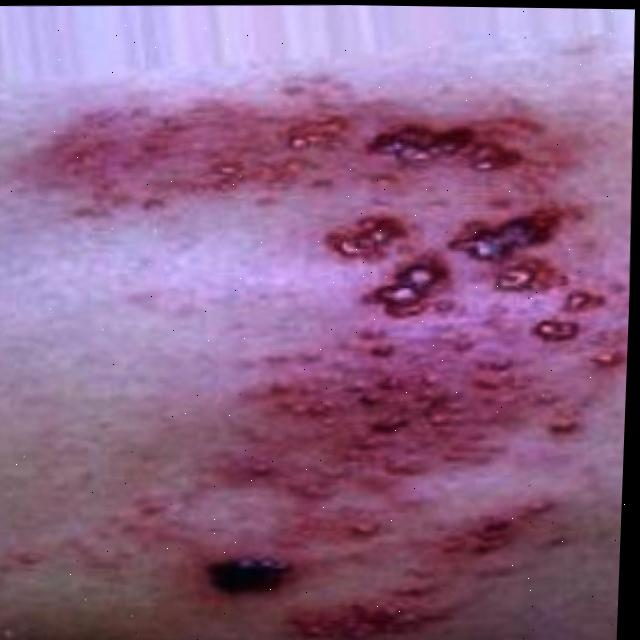Shingles: (46, 67, 638, 640)
